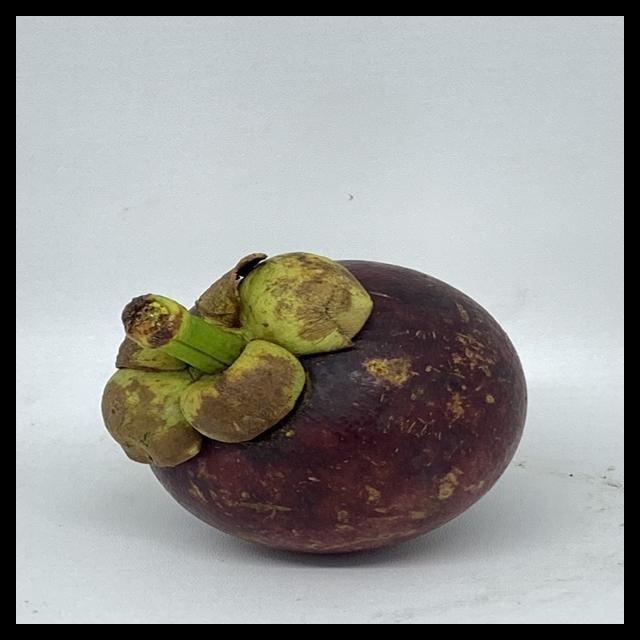mangosteen: (104, 236, 549, 564)
